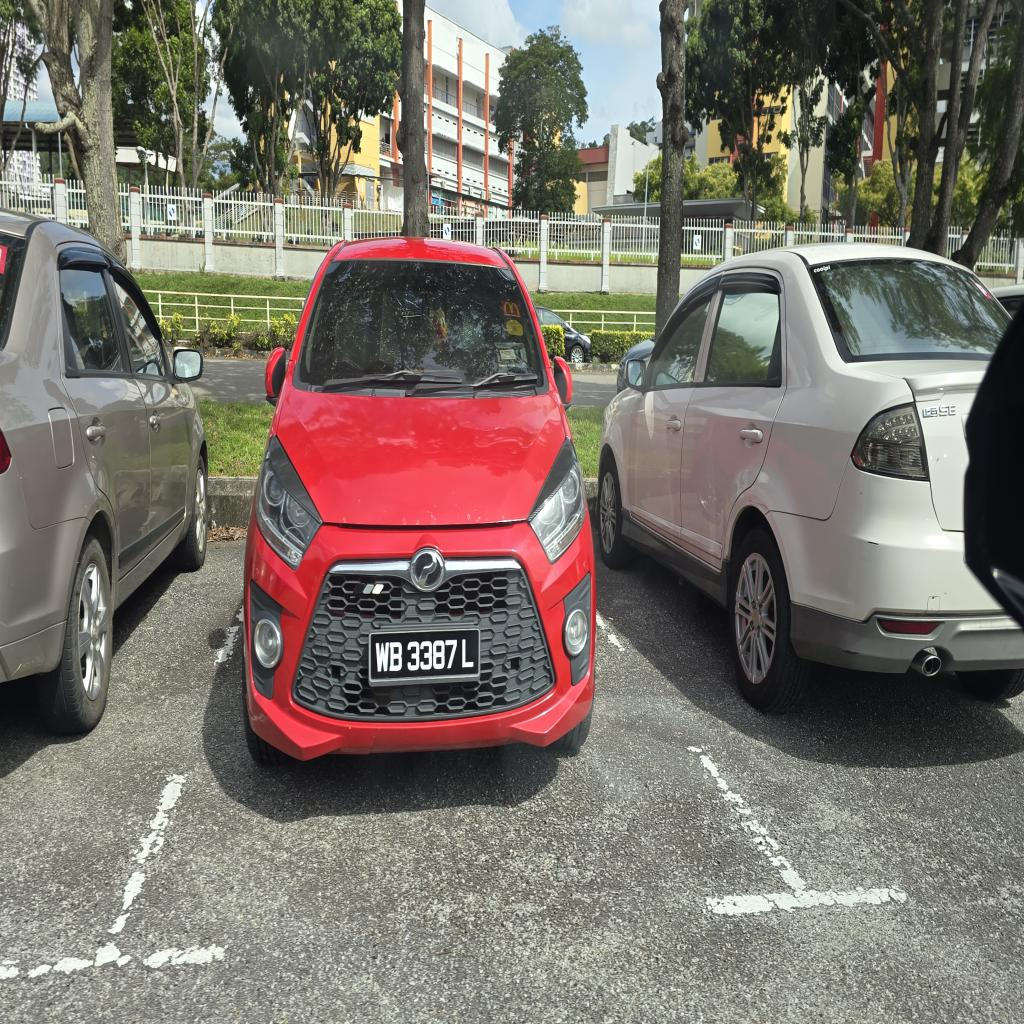car: (245, 239, 595, 762)
car plate: (369, 629, 479, 686)
